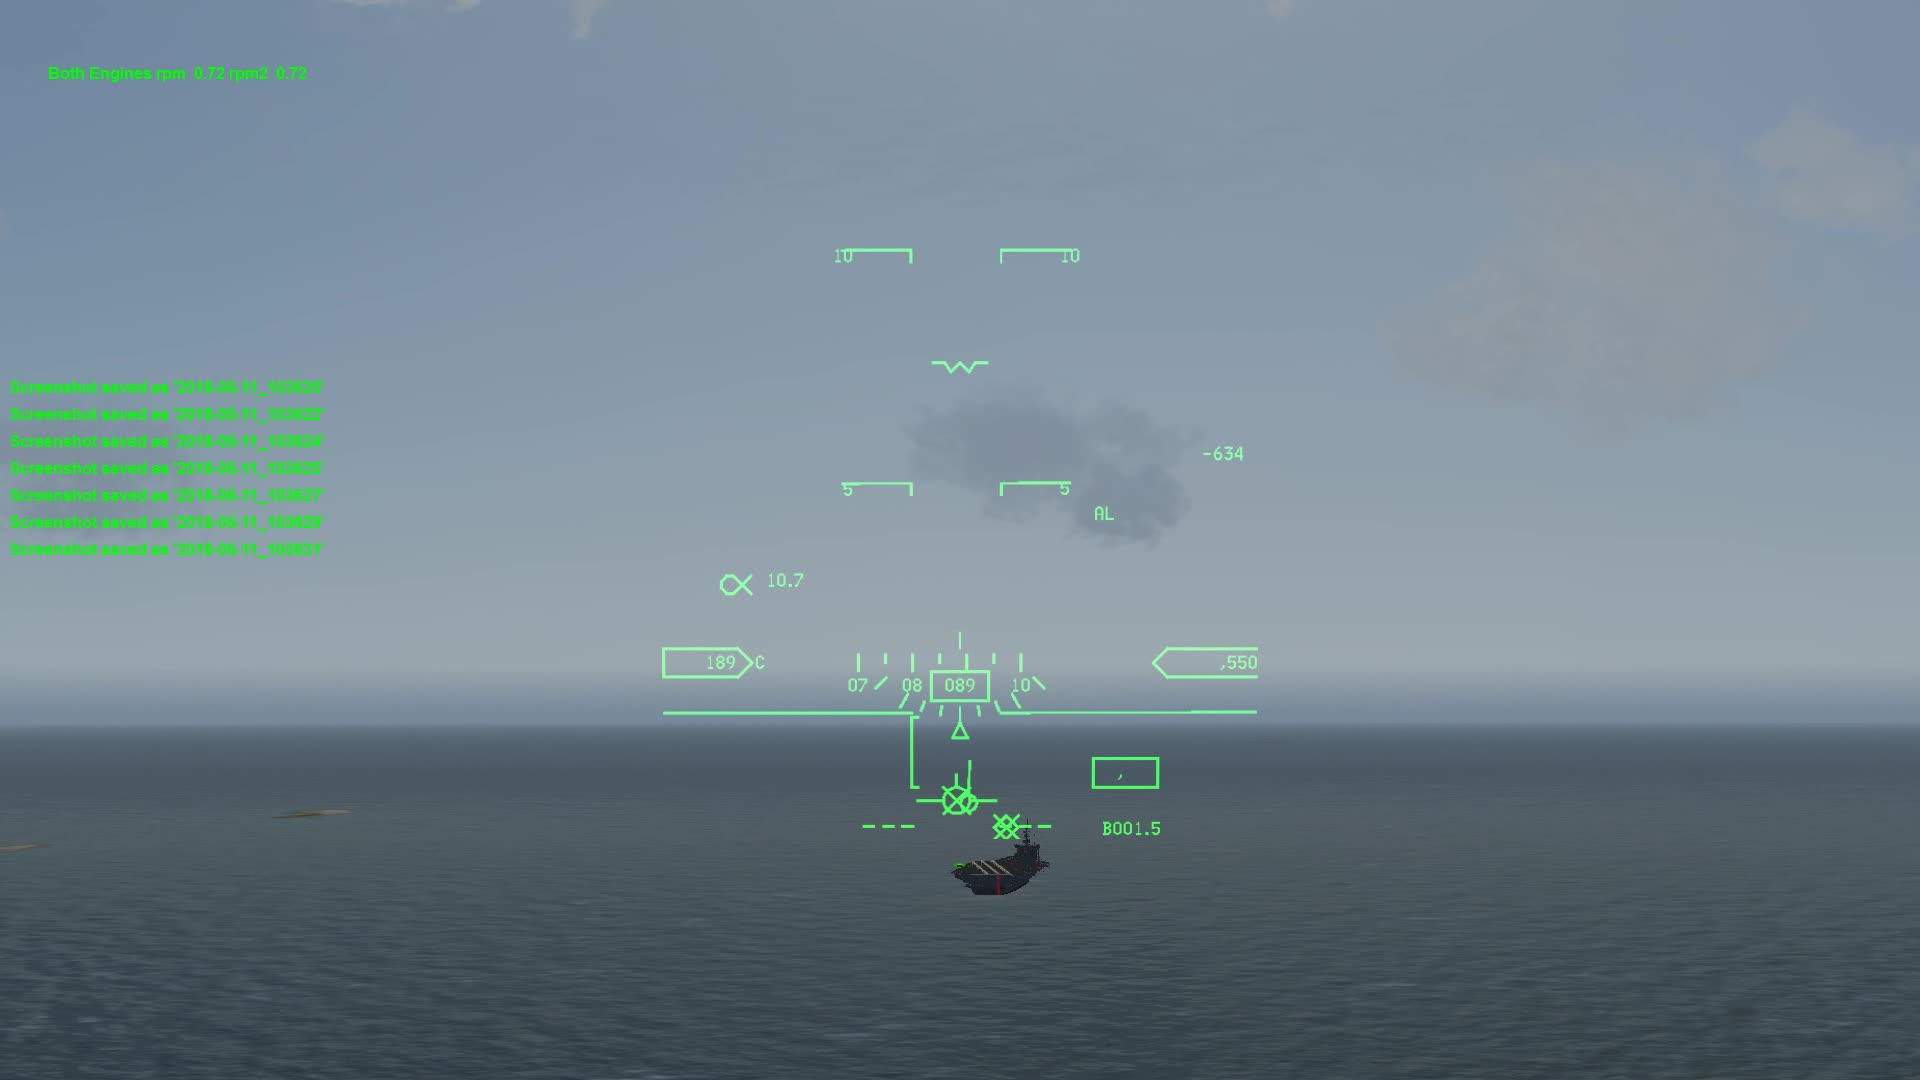speed vector: (922, 778, 998, 822)
